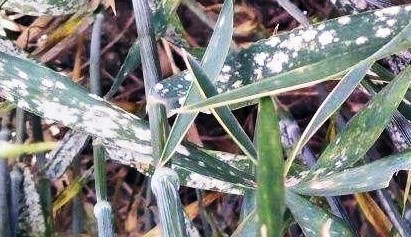Powdery Mildew: (213, 6, 399, 88)
